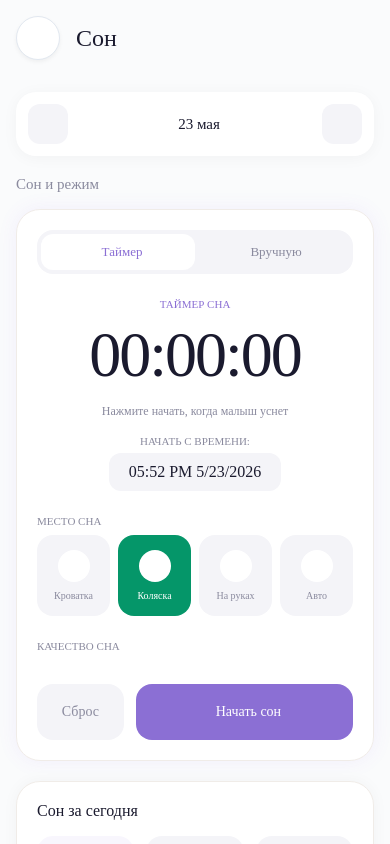
Test: SleepScreen › resets timer when Сброс is clicked
Click the text "Начать сон".
click(248, 712)  # box [216,704,281,720]
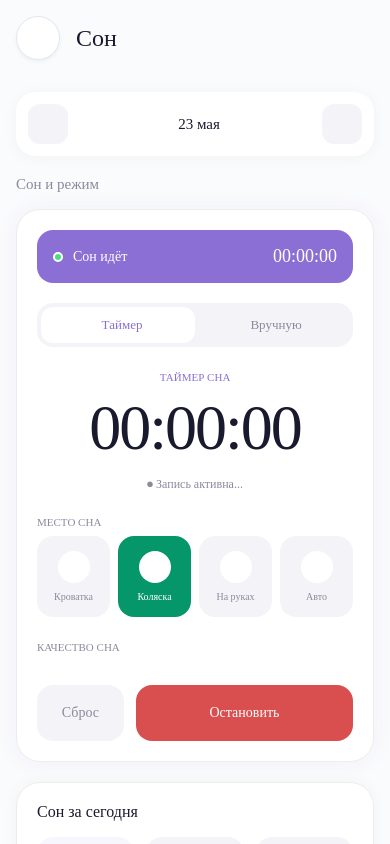
Now the text "Остановить" is shown, box [210,705,279,721]
Click the text "Сброс".
click(80, 713)  # box [62,705,99,721]
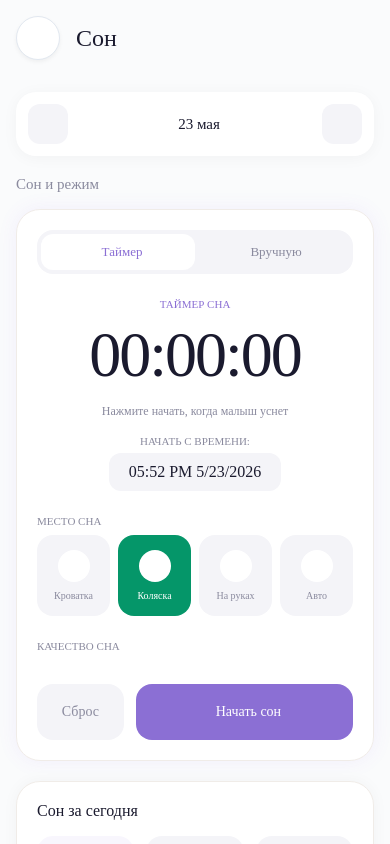
Now the text "Начать сон" is shown, box [216,704,281,720]
